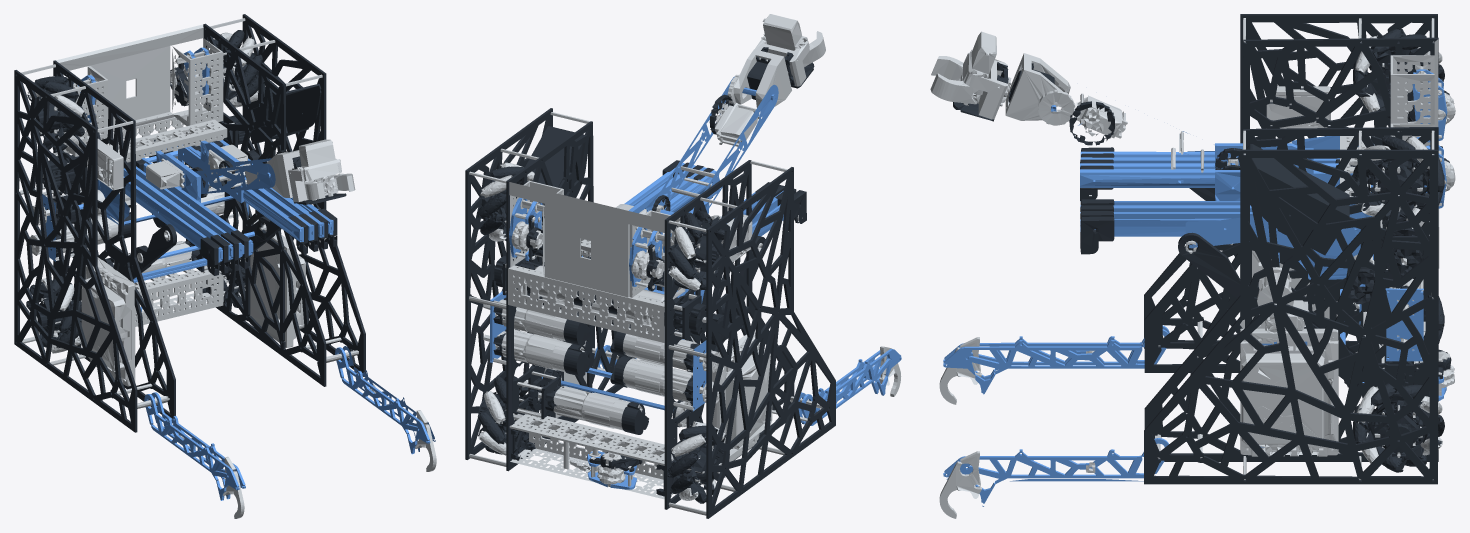
The model's file is manning-2025-drivetrain.glb.
3 views of the same model, side by side, from view 1: azimuth 30°, elevation 25°; view 2: azimuth 150°, elevation 25°; view 3: azimuth 270°, elevation 25° (orthographic). The views are drawn at different scales.
Visible parts, largest first — view 1: telemark-cad-chassis, telemark-cad-wheel-right-front, telemark-cad-wheel-left-front, telemark-cad-wheel-left-back, telemark-cad-wheel-right-back; view 2: telemark-cad-chassis, telemark-cad-wheel-left-front, telemark-cad-wheel-right-back, telemark-cad-wheel-left-back, telemark-cad-wheel-right-front; view 3: telemark-cad-chassis, telemark-cad-wheel-right-front, telemark-cad-wheel-right-back, telemark-cad-wheel-left-front.
Part boxes in pixels (x1,y1,x2,y2): telemark-cad-chassis: (14,14,436,518); telemark-cad-wheel-right-front: (203,25,277,107); telemark-cad-wheel-left-front: (27,72,85,151); telemark-cad-wheel-left-back: (26,273,81,353); telemark-cad-wheel-right-back: (200,258,245,311); telemark-cad-chassis: (465,14,901,518); telemark-cad-wheel-left-front: (651,205,724,290); telemark-cad-wheel-right-back: (471,376,541,460); telemark-cad-wheel-left-back: (656,416,729,503); telemark-cad-wheel-right-front: (471,156,541,241); telemark-cad-chassis: (930,14,1455,518); telemark-cad-wheel-right-front: (1353,131,1444,231); telemark-cad-wheel-right-back: (1353,373,1444,472); telemark-cad-wheel-left-front: (1353,28,1447,123).
Size of the model in its own units: 0.3362 by 0.4805 by 0.5448.
